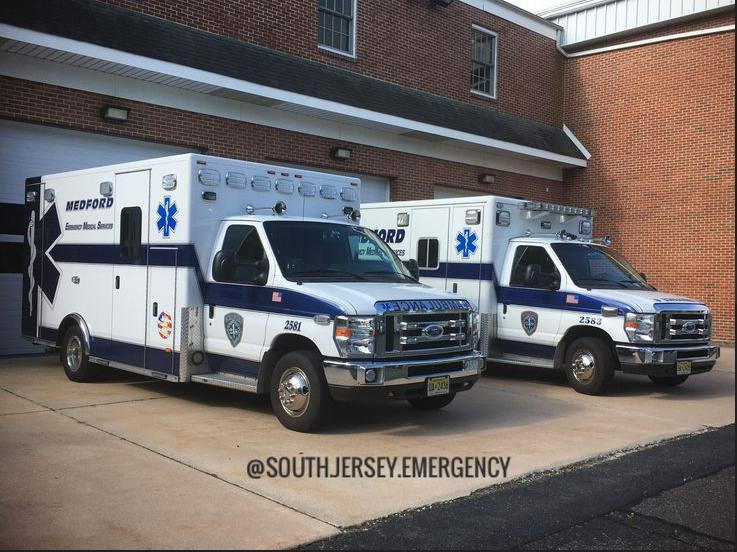ambulance_off: (23, 151, 487, 432), (361, 195, 721, 393)
